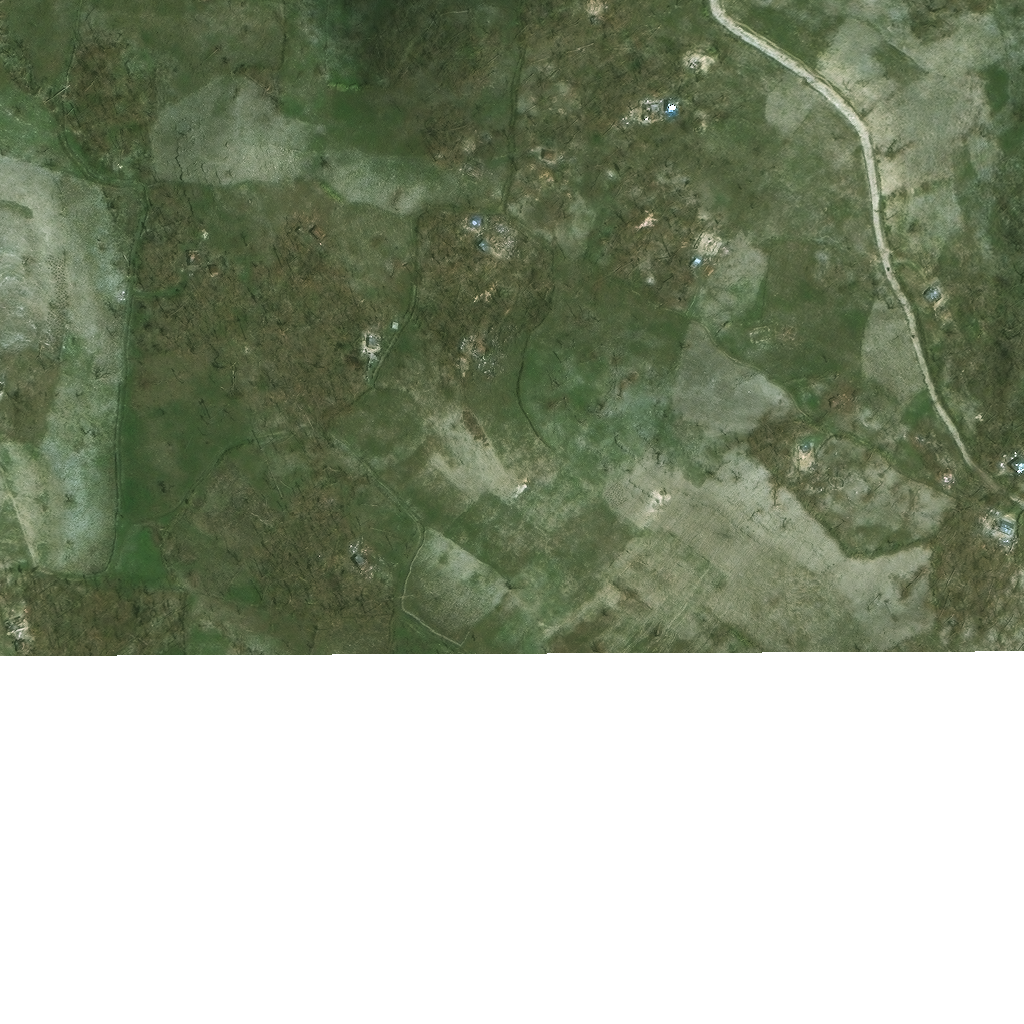destroyed: (511, 233, 539, 258), (589, 42, 613, 66), (696, 233, 718, 253), (784, 448, 802, 472), (474, 334, 493, 355), (484, 65, 504, 83), (551, 139, 569, 156), (474, 130, 492, 145), (971, 515, 986, 533), (1007, 314, 1017, 325), (465, 141, 475, 150), (598, 0, 609, 6)
major_damage: (943, 273, 965, 294), (985, 521, 1008, 540), (649, 95, 673, 112)
minor_damage: (476, 206, 498, 226), (494, 231, 516, 248), (1010, 451, 1023, 470)
